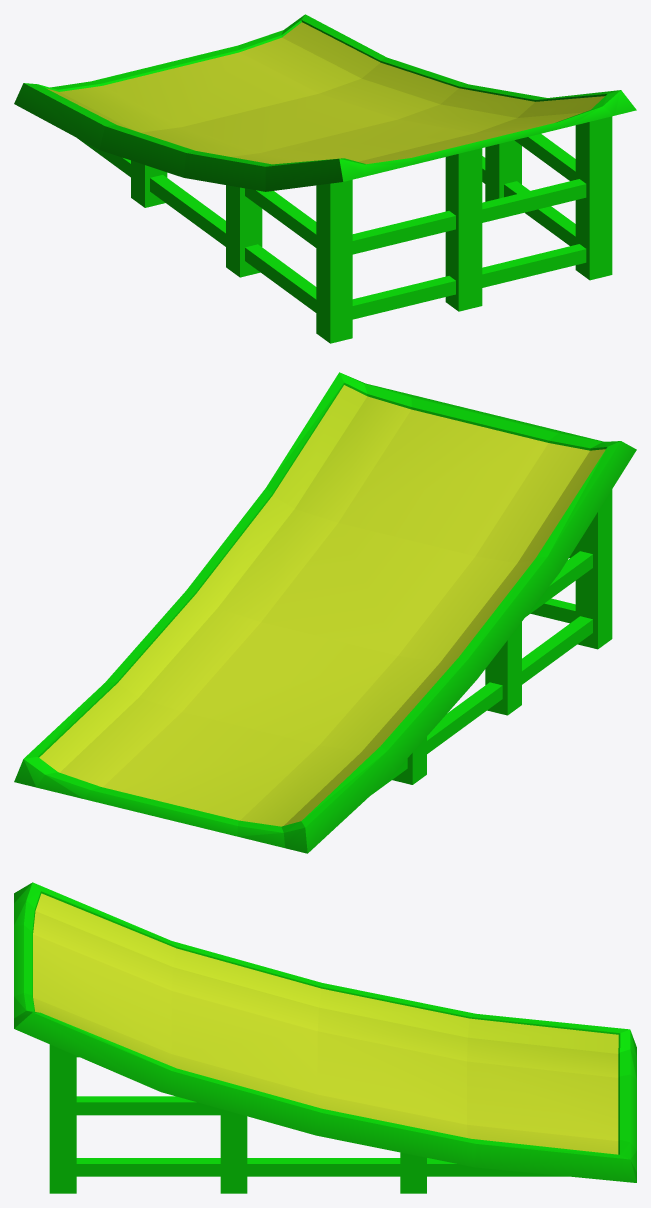
Rendered from sm_speed_platform_ramp.fbx.
3 renders of one model, top to bottom at view 1: azimuth 30°, elevation 25°; view 2: azimuth 150°, elevation 25°; view 3: azimuth 270°, elevation 25°, orthographic. The views are drawn at different scales.
Visible parts, largest first — view 1: sm_speed_platform_ramp; view 2: sm_speed_platform_ramp; view 3: sm_speed_platform_ramp.
Part boxes in pixels (x1,y1,x2,y2): sm_speed_platform_ramp: [14, 14, 636, 343]; sm_speed_platform_ramp: [14, 372, 636, 853]; sm_speed_platform_ramp: [14, 882, 636, 1193].
Size of the model in its own units: 208 by 130 by 405.
